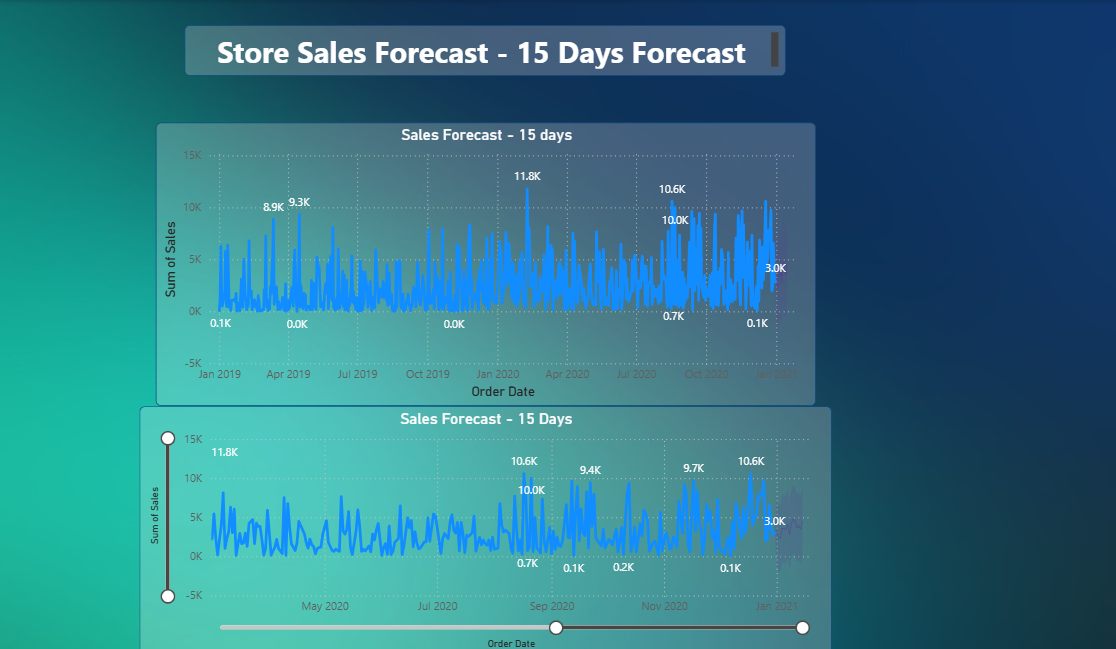

What the dashboard file says about the page in this screenshot:
{"tool":"powerbi","page":{"name":"Page 2","canvas":[1280,720],"ordinal":1},"visuals":[{"type":"lineChart","title":"Sales Forecast - 15 days","fields":{"Y":["Sum(SuperStore_Sales_Dataset.Sales)"],"Category":["SuperStore_Sales_Dataset.Order Date"]},"box":[173.8,135,725,311.2],"z":0},{"type":"lineChart","title":"Sales Forecast - 15 Days","fields":{"Y":["Sum(SuperStore_Sales_Dataset.Sales)"],"Category":["SuperStore_Sales_Dataset.Order Date"]},"box":[156.2,446.2,760,273.8],"z":1},{"type":"textbox","box":[206.2,27.5,660,56.2],"z":2}]}

Visuals, with their boxes on the page's 1280x720 design canvas (x1, y1, x2, y2). These are canvas units, not pixel positions in the 1116x649 screenshot, which may show the page scaled, cropped or inside an application window:
"Sales Forecast - 15 days" lineChart: <bbox>174, 135, 899, 446</bbox>
"Sales Forecast - 15 Days" lineChart: <bbox>156, 446, 916, 720</bbox>
textbox: <bbox>206, 28, 866, 84</bbox>
